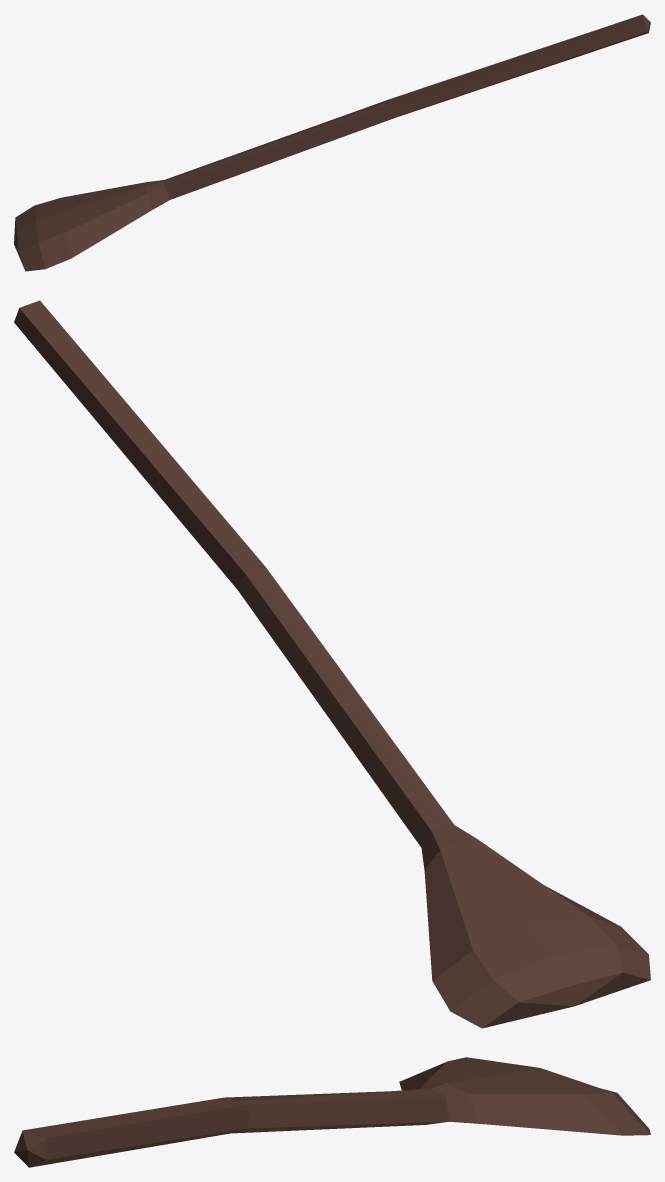
File: fbxPaddle_canoe.fbx
The picture shows the model from 3 angles, top to bottom: view 1: azimuth 30°, elevation 25°; view 2: azimuth 150°, elevation 25°; view 3: azimuth 270°, elevation 25°; orthographic projection. The views are drawn at different scales.
Parts seen in each view (by area): view 1: pCylinder1; view 2: pCylinder1; view 3: pCylinder1.
Part boxes in pixels (left/top/right/bottom): pCylinder1: left=14, top=14, right=650, bottom=271; pCylinder1: left=14, top=300, right=650, bottom=1028; pCylinder1: left=14, top=1057, right=650, bottom=1167.
Bounding box in the file's own units: 4.46 × 1.83 × 2.67.
